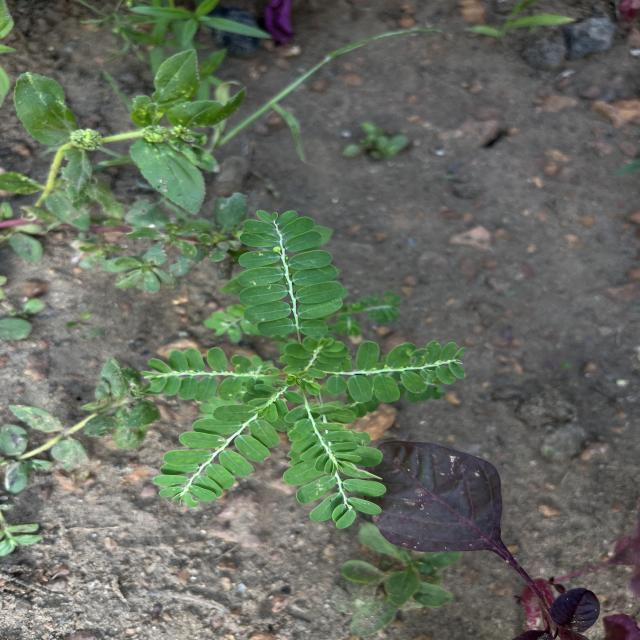Phyllanthus niruri: (232, 206, 347, 342), (152, 398, 284, 508), (316, 337, 471, 405), (134, 344, 280, 402), (293, 395, 360, 478)
